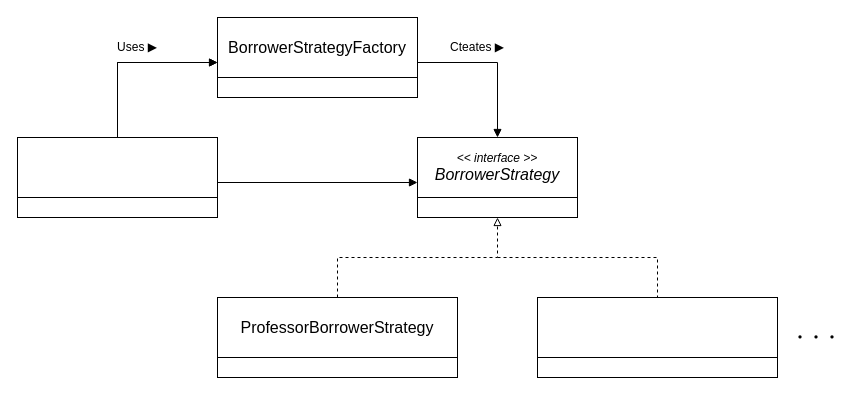
Image size: 858x395. Some labels were removed from this diagram. The shapes that lost their labels are listed below. From the top down, each one's box as (x1, y1, x2, y2) in pixels, then its label:
(16, 136, 218, 198): 〇〇Service
(536, 296, 778, 358): GraduateStudentStrategy
